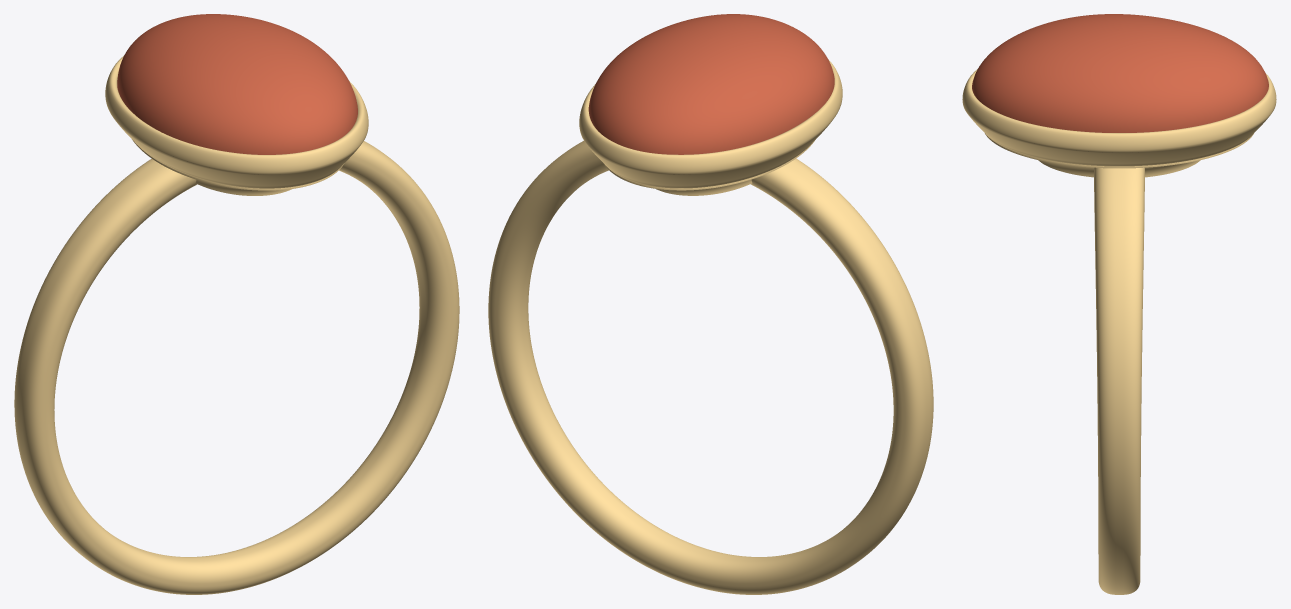
File: vyoma-minimal-moonga.glb
3 renders of one model, left to right at view 1: azimuth 30°, elevation 25°; view 2: azimuth 150°, elevation 25°; view 3: azimuth 270°, elevation 25°, orthographic.
Parts seen in each view (by area): view 1: shank, stone, metal; view 2: shank, stone, metal; view 3: stone, shank, metal.
Boxes of the visible parts, <box> form: shank: <box>14,141,459,594</box>; stone: <box>117,14,357,154</box>; metal: <box>105,56,368,195</box>; shank: <box>488,141,933,594</box>; stone: <box>588,14,834,154</box>; metal: <box>579,60,842,195</box>; stone: <box>972,14,1268,132</box>; shank: <box>1094,167,1144,594</box>; metal: <box>962,69,1276,177</box>.
Size of the model in its own units: 2.01 by 2.42 by 1.27.
